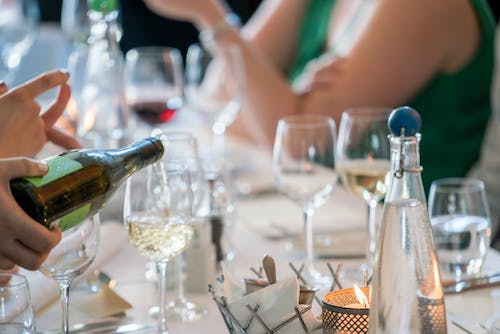alcohol: (9, 136, 165, 233), (122, 159, 194, 334), (334, 106, 395, 283), (122, 47, 185, 128)
